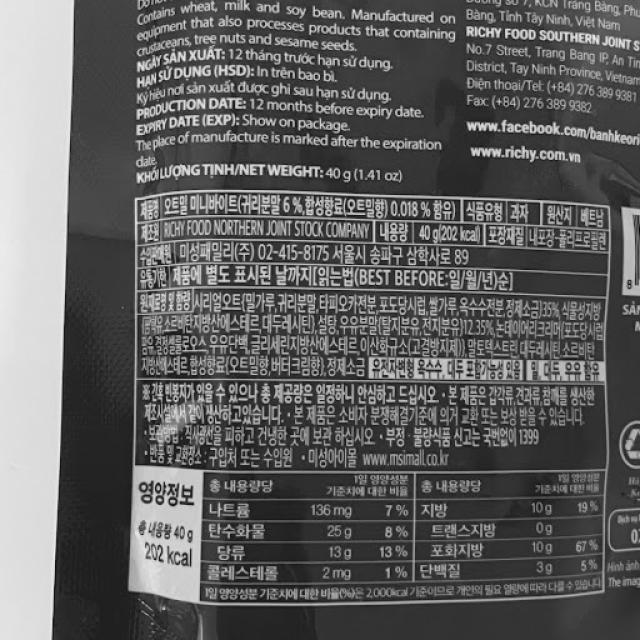Nutrition Label: (114, 453, 615, 622)
